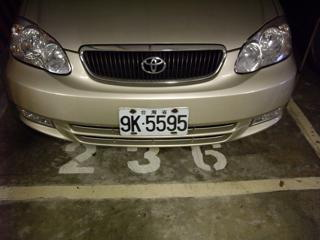plate: (115, 105, 192, 138)
